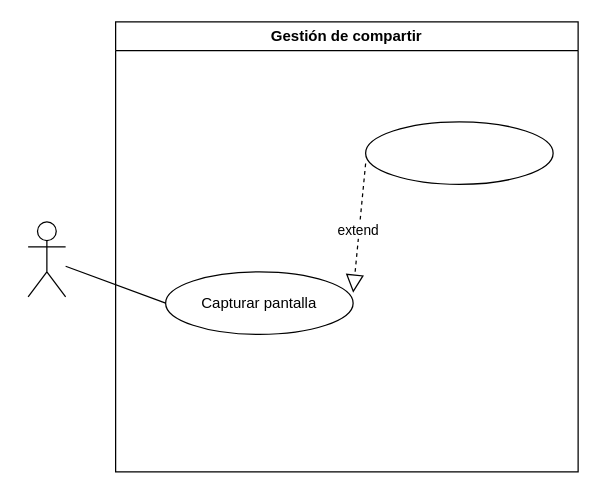
This 600x494 diagram has some shape labels left out. The centre of each missing label's shape, as x and y in pixels:
Compartir captura: [458,152]
Usuario: [46,259]
